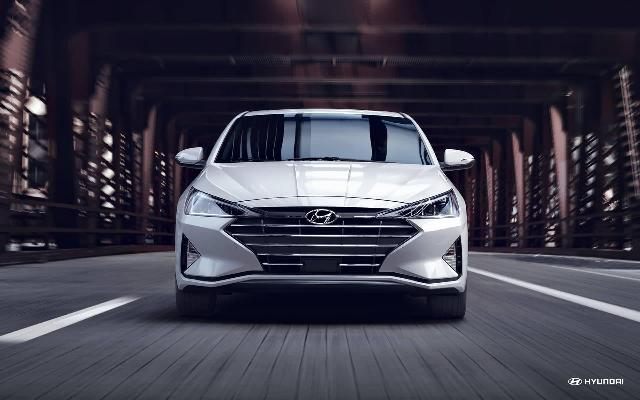hyundai: (174, 108, 476, 318)
